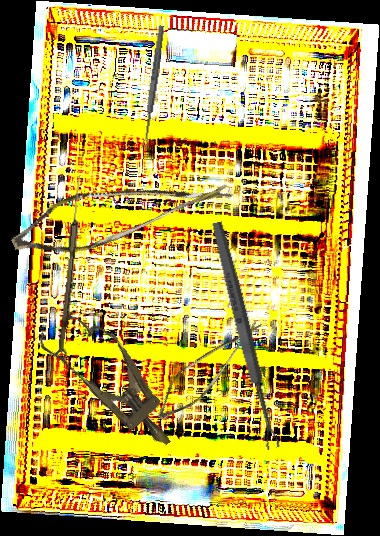Micro Scissor: (5, 133, 235, 289), (151, 300, 263, 435)
Speculum: (32, 297, 193, 466)
Surgical Spoon: (209, 220, 281, 451), (58, 175, 83, 354), (140, 25, 166, 149)
